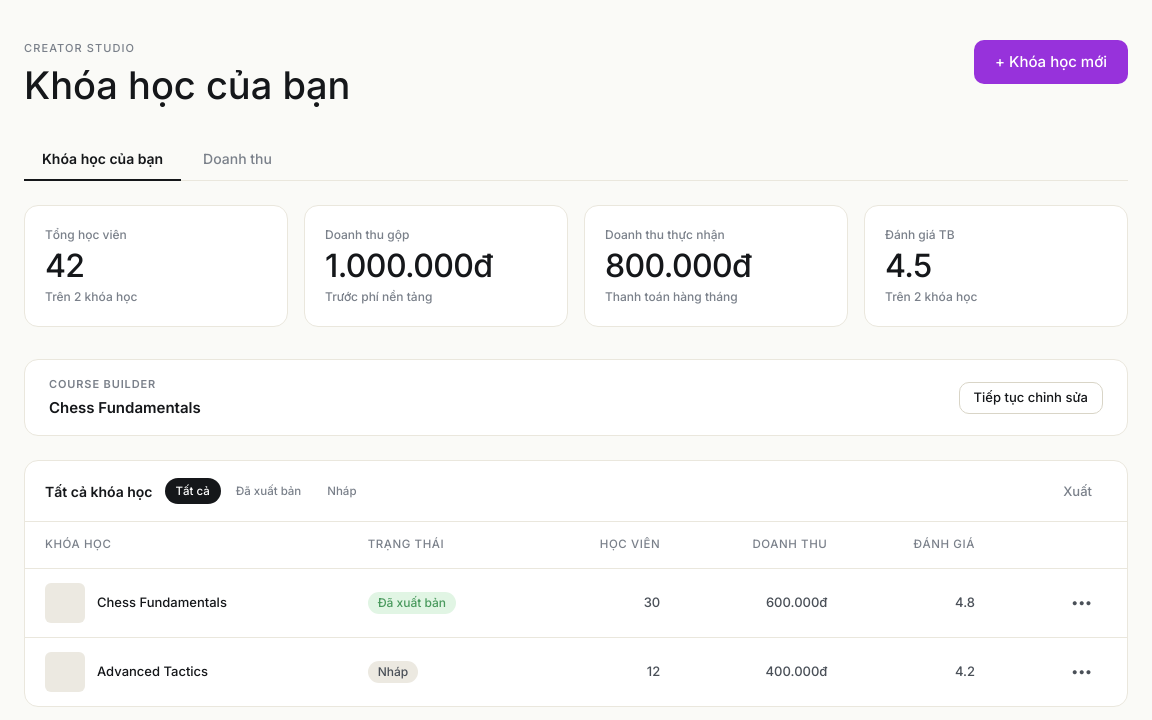
Test: CreatorStudioPage › shows delete confirmation dialog on delete kebab
Expected: the text with test id "course-title-c1" is shown, [97,593,227,612]
Click the button with test id "kebab-btn" in the row of "30" at [1082, 602], box [1056,586,1107,618]
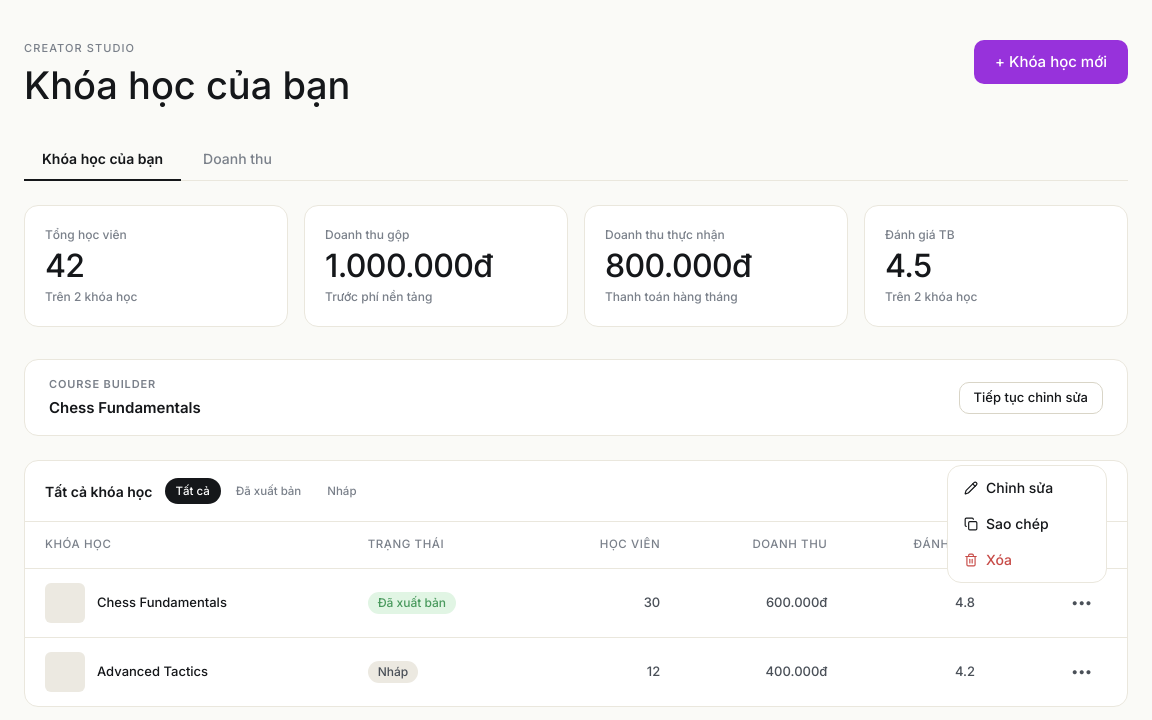
Click the menu item with test id "kebab-delete-c1" at [988, 560], box [964,551,1012,568]
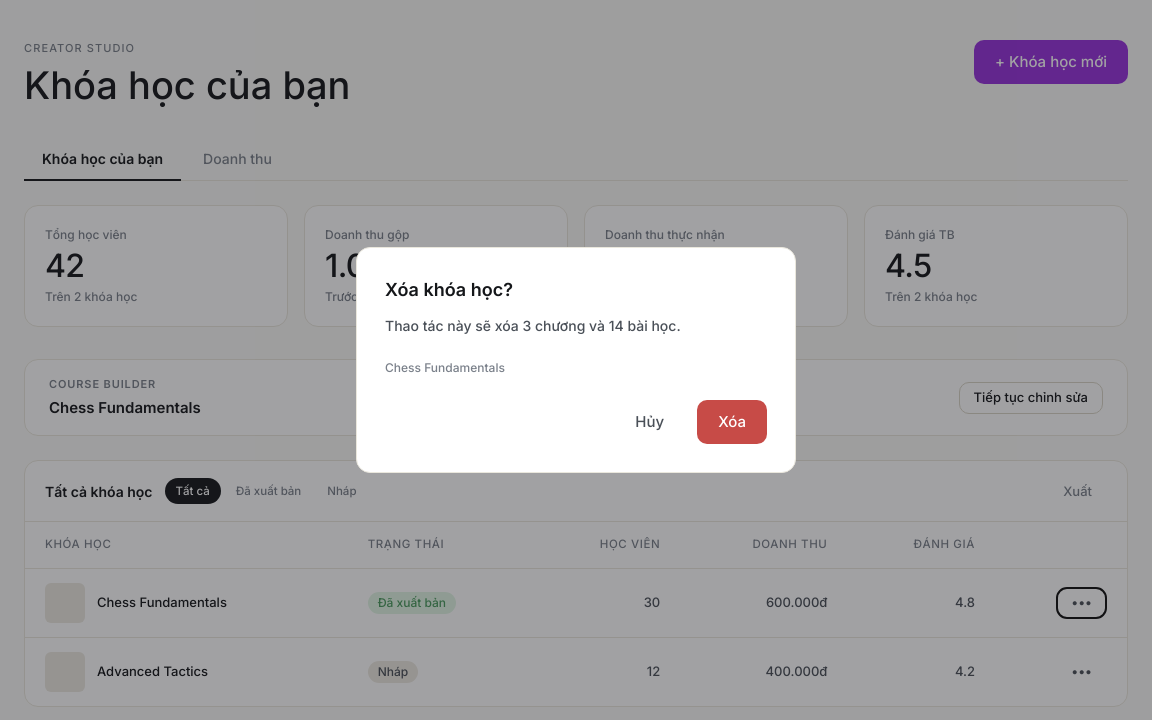
Now the element with test id "delete-course-dialog" is shown, box [356,247,796,473]
